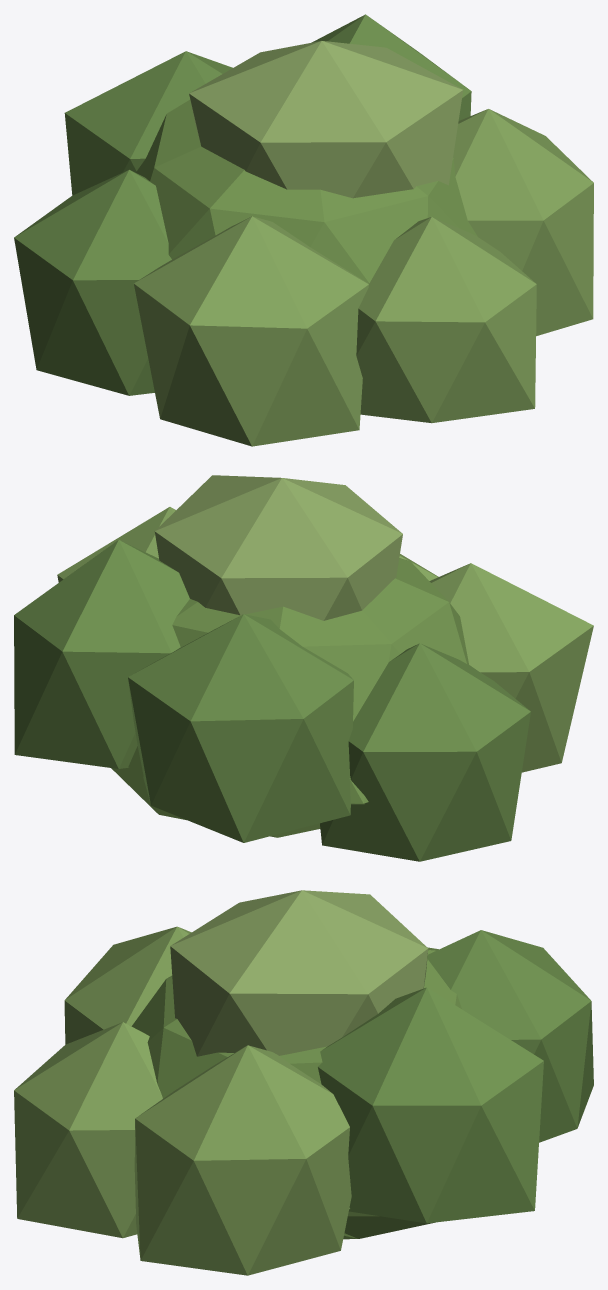
Rendered from bush_large.glb.
The picture shows the model from 3 angles, top to bottom: view 1: azimuth 30°, elevation 25°; view 2: azimuth 150°, elevation 25°; view 3: azimuth 270°, elevation 25°; orthographic projection. The views are drawn at different scales.
Parts seen in each view (by area): view 1: bush_large; view 2: bush_large; view 3: bush_large.
Part boxes in pixels (box(x1,y1,x2,y2)): bush_large: box(14, 14, 593, 446); bush_large: box(14, 475, 593, 861); bush_large: box(14, 890, 593, 1275).
Size of the model in its own units: 1.9 by 1.1 by 1.9.
